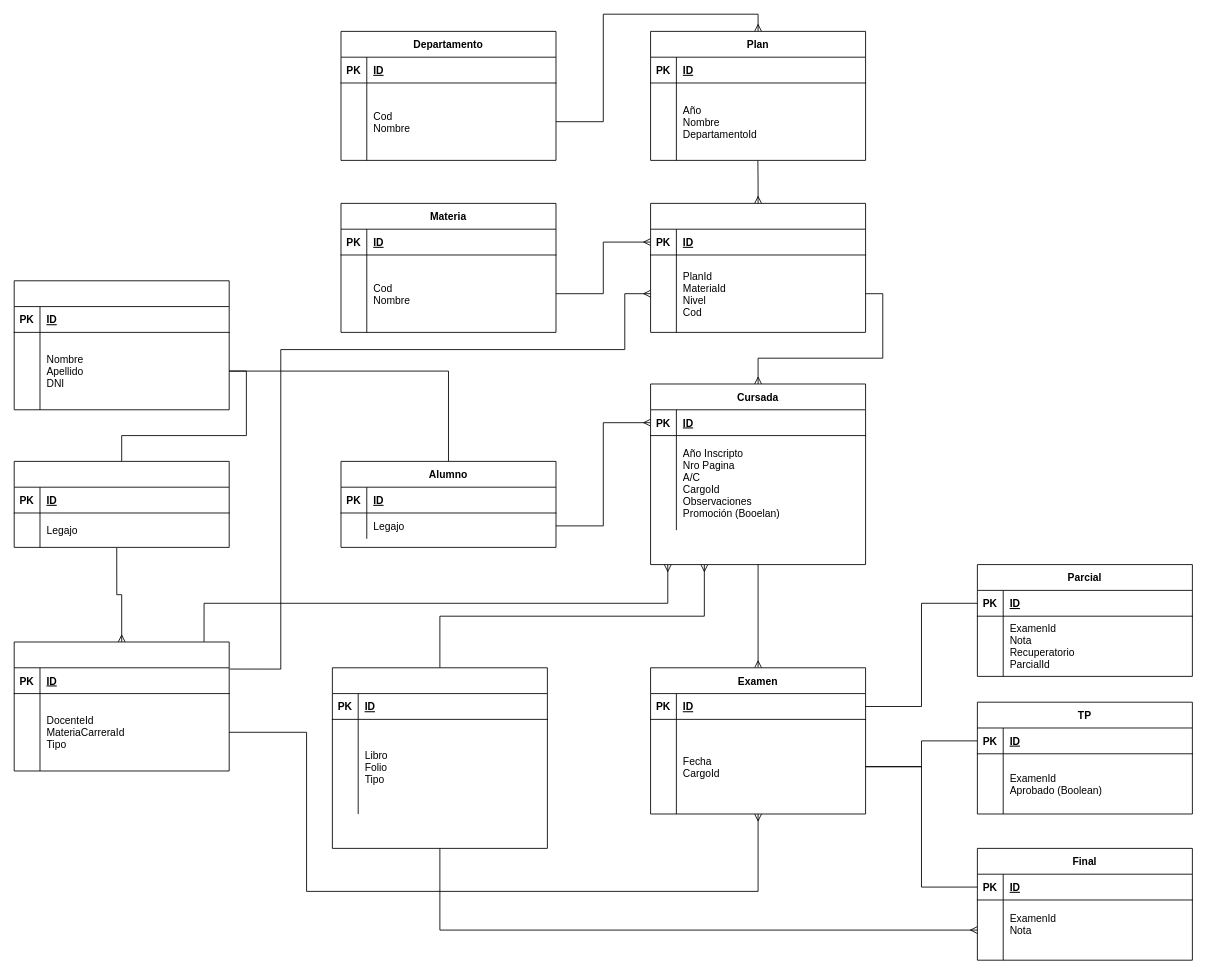
Image size: 1207x974. Some labels were removed from this diagram. Here are the shapes that lost their labels. From the top down, the box of each, then its label:
(650, 203, 866, 332): MateriaCarrera
(13, 280, 229, 410): Persona
(13, 461, 229, 547): Docente
(13, 641, 229, 771): Cargo
(332, 667, 547, 848): Acta
